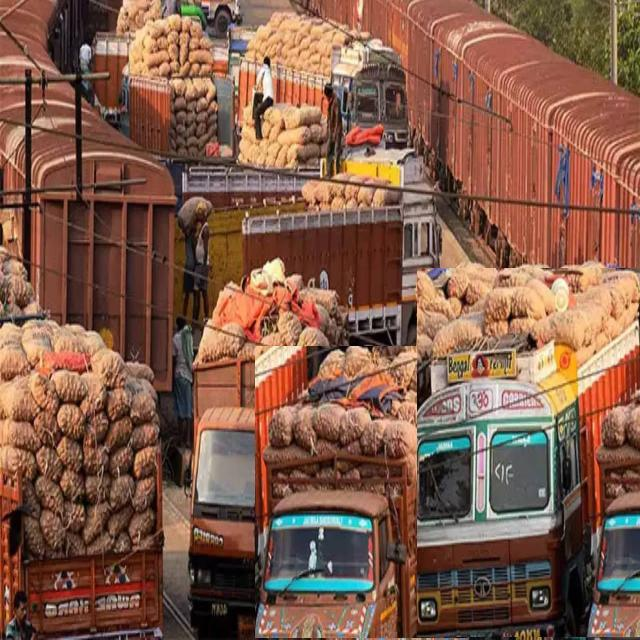truck: (417, 269, 640, 637), (255, 346, 468, 638), (181, 147, 441, 370), (189, 264, 321, 637), (239, 13, 410, 147)
